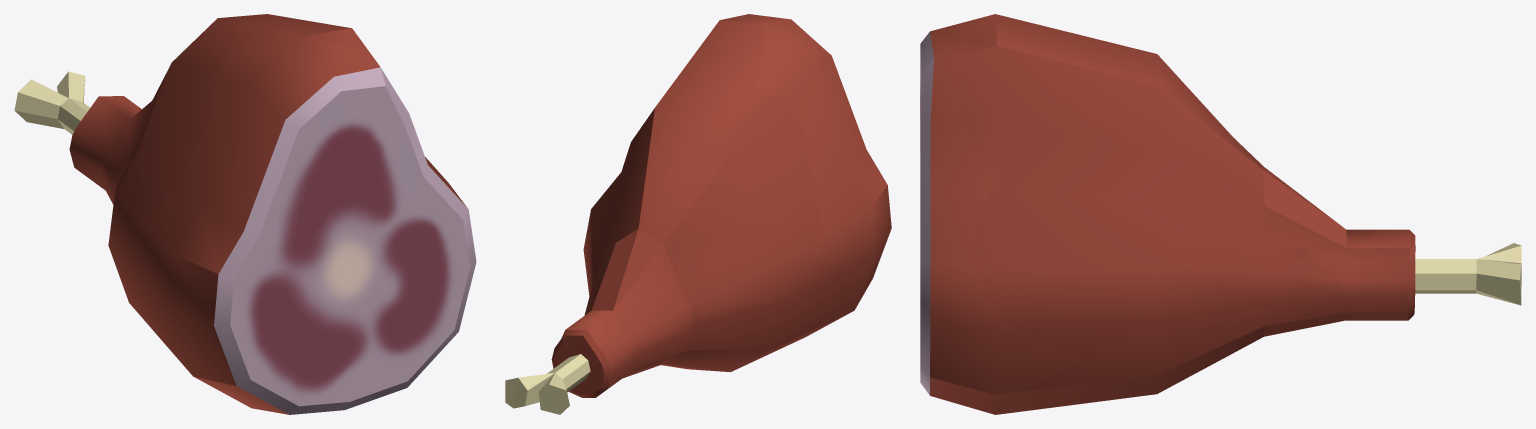
Rendered from meat.obj.
3 views of the same model, side by side, from view 1: azimuth 30°, elevation 25°; view 2: azimuth 150°, elevation 25°; view 3: azimuth 270°, elevation 25° (orthographic). The views are drawn at different scales.
Visible parts, largest first — view 1: meat; view 2: meat; view 3: meat.
Boxes of the visible parts, left/top/right/bottom form: meat: left=14, top=14, right=476, bottom=414; meat: left=505, top=14, right=891, bottom=414; meat: left=920, top=14, right=1521, bottom=414.
Bounding box in the file's own units: 1.61 × 1.97 × 2.92.
Materials: 1 (1 with a texture image).
